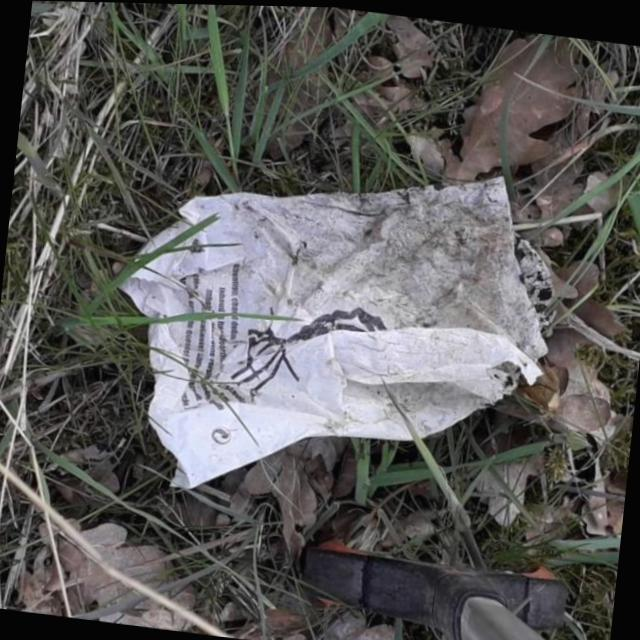Paper: (96, 124, 564, 529)
